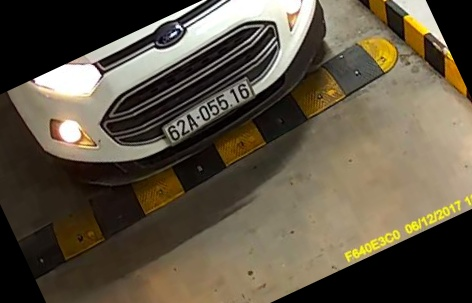plate: (150, 75, 265, 154)
